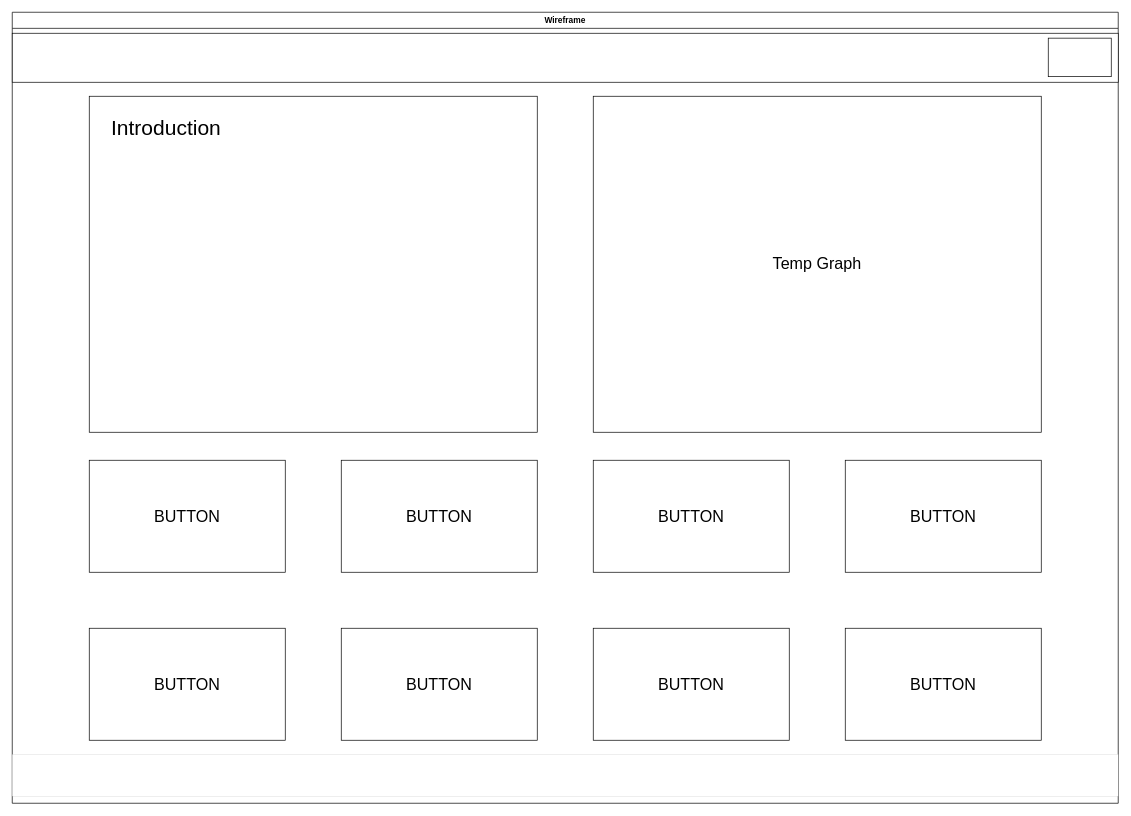
The diagram is 1131 pixels wide and 816 high, and some of its shapes have lost their labels. The centre of each missing label's shape, as x and y in pixels:
"Footer" belongs at point 565,775.
"Login" belongs at point 1079,57.
